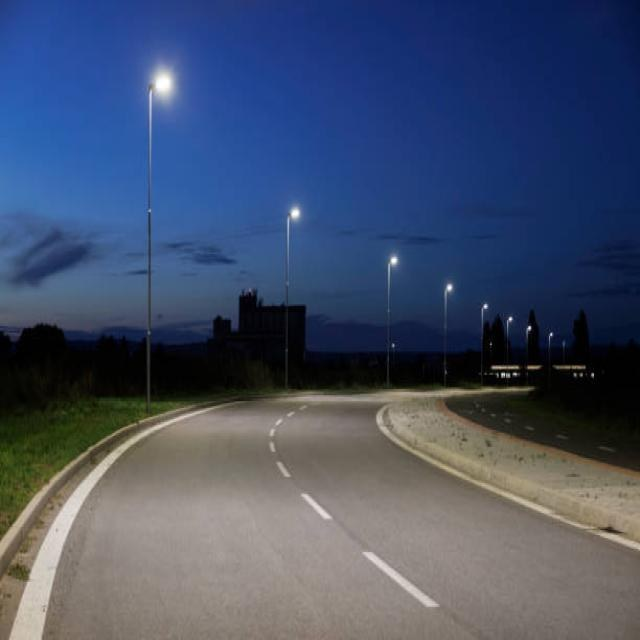acesa: (150, 65, 175, 98), (287, 204, 300, 220), (446, 282, 454, 296), (390, 254, 398, 264)
